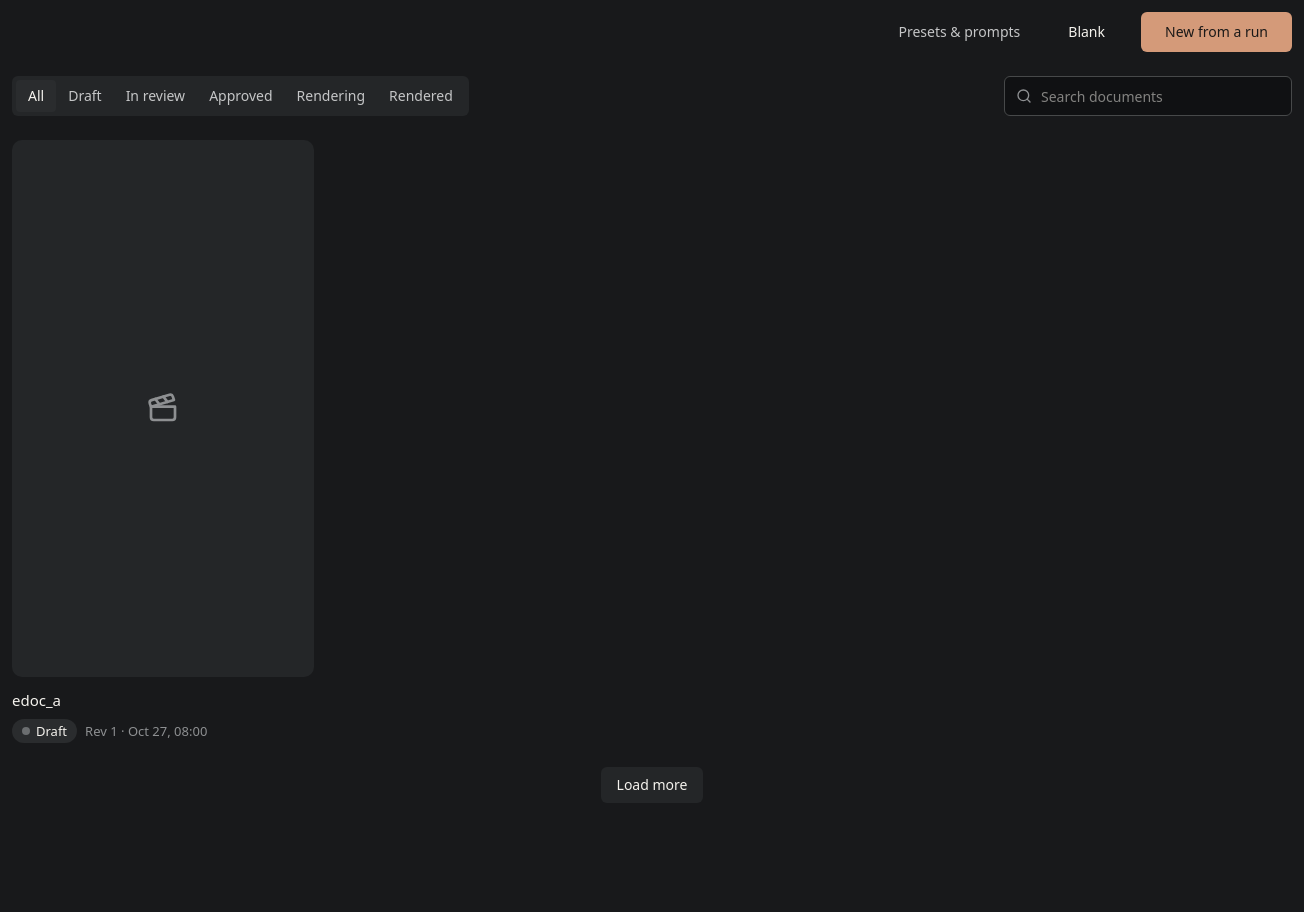
Test case: more documents load on request
The image size is (1304, 912).
Click the button "Load more" at {"x": 652, "y": 785}, box [601,767,704,803]
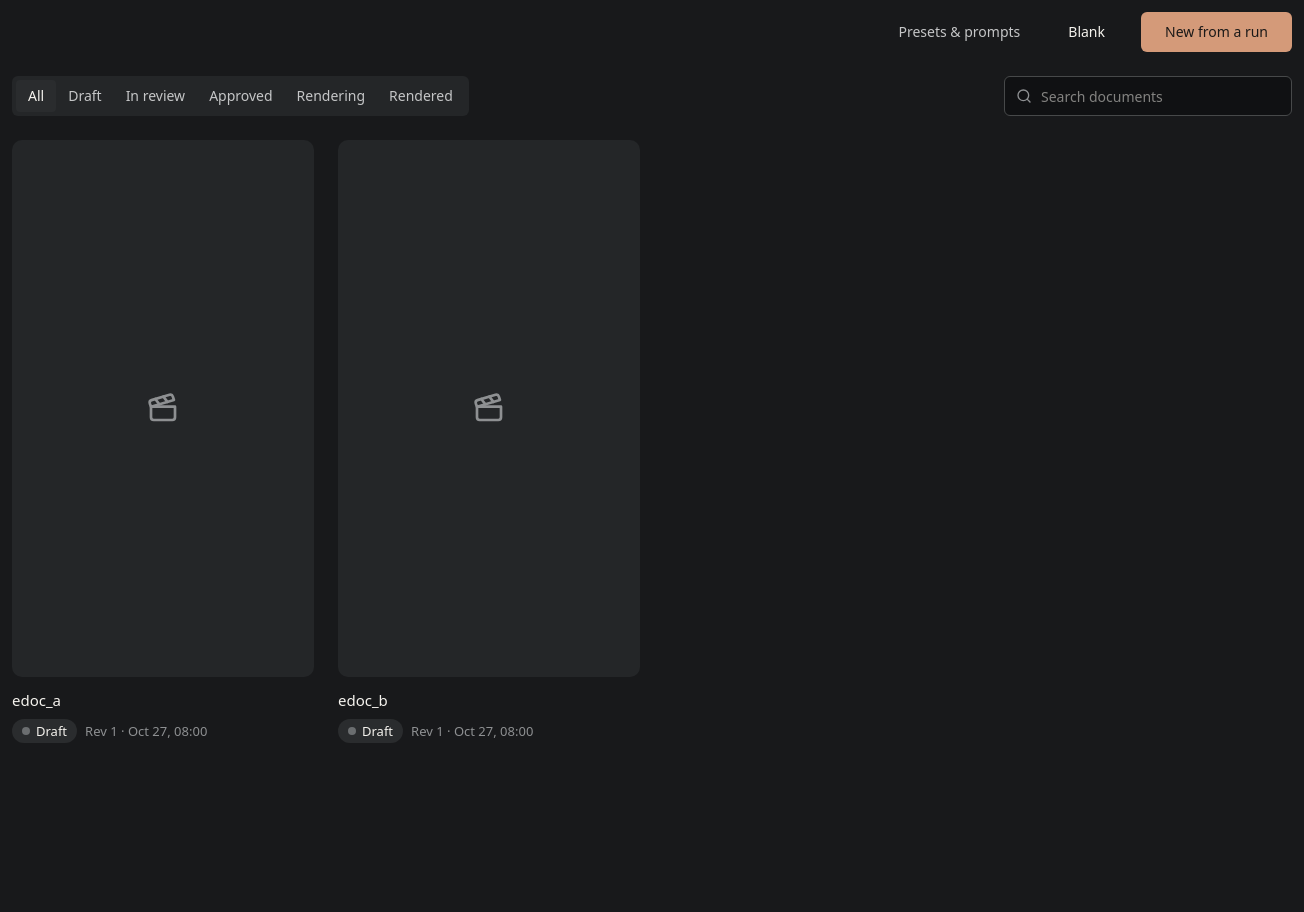
Check: the link "edoc_b Draft Rev 1 · Oct 27, 08:00" is shown, box [338,140,640,743]
